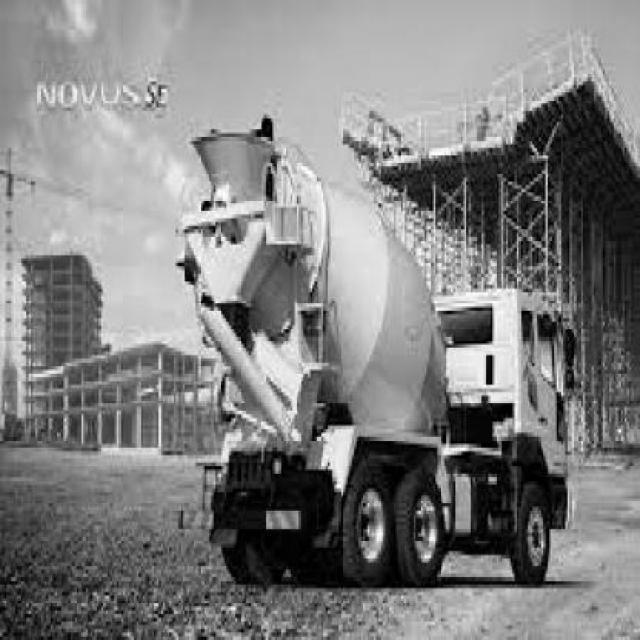Concrete Mixer: (178, 118, 581, 589)
